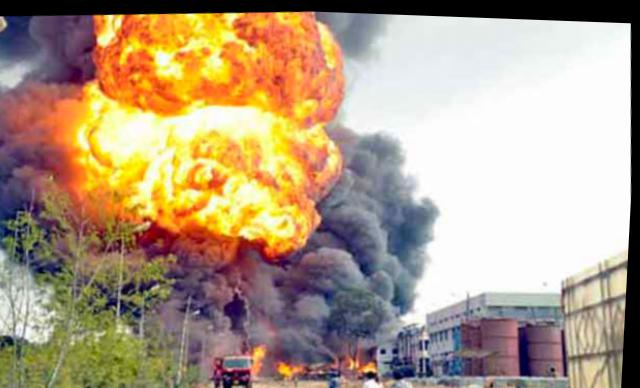fire: (90, 7, 323, 238), (80, 85, 104, 214), (311, 24, 342, 114), (266, 227, 311, 259), (312, 139, 339, 182), (253, 342, 270, 377), (352, 357, 386, 374), (278, 360, 307, 378)
smoke: (127, 251, 327, 348), (0, 85, 94, 268), (335, 120, 412, 329), (394, 142, 452, 313), (0, 12, 98, 89), (318, 201, 350, 337), (111, 236, 243, 261), (338, 10, 401, 62), (345, 326, 399, 344)
